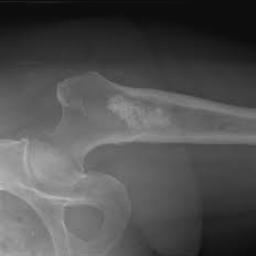cancer: (104, 88, 191, 143)
